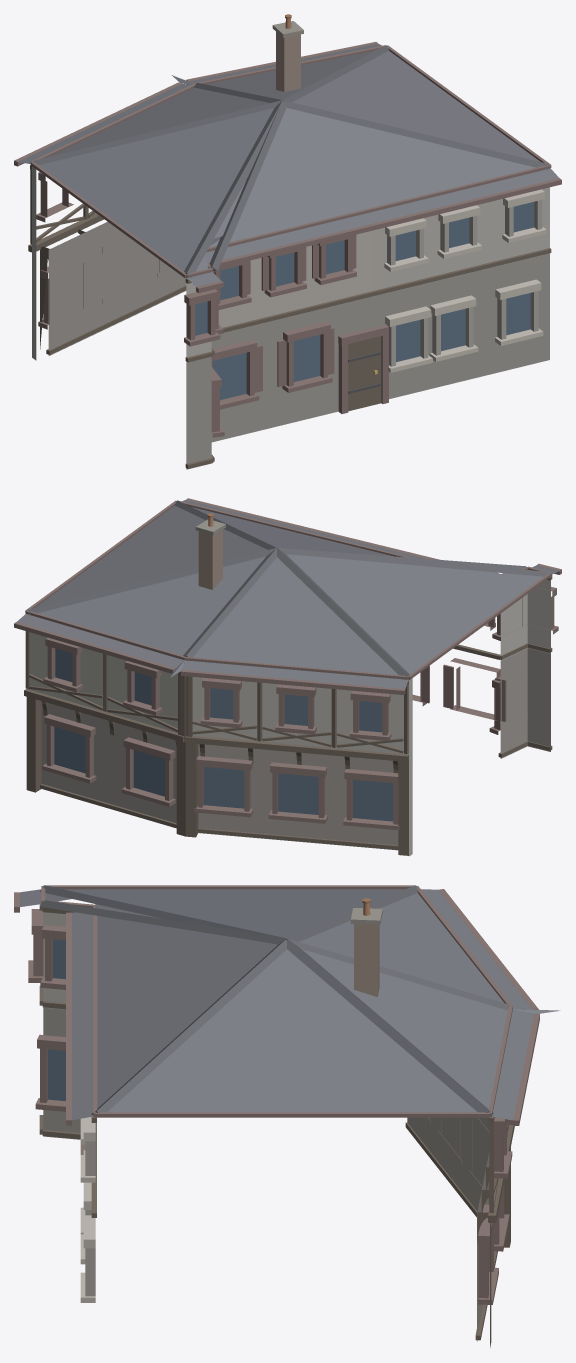
3 views of the same model, one above another, from view 1: azimuth 30°, elevation 25°; view 2: azimuth 150°, elevation 25°; view 3: azimuth 270°, elevation 25° (orthographic). The views are drawn at different scales.
Visible parts, largest first — view 1: B098_visible; view 2: B098_visible; view 3: B098_visible.
Boxes of the visible parts, x1,y1,x2,y2 form: B098_visible: (14, 14, 561, 469); B098_visible: (14, 498, 561, 856); B098_visible: (14, 885, 560, 1347).
Bounding box in the file's own units: 13.7 × 9.95 × 13.66.
